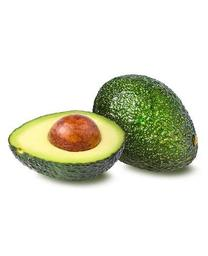avocado: (93, 74, 198, 172), (8, 110, 126, 182)
